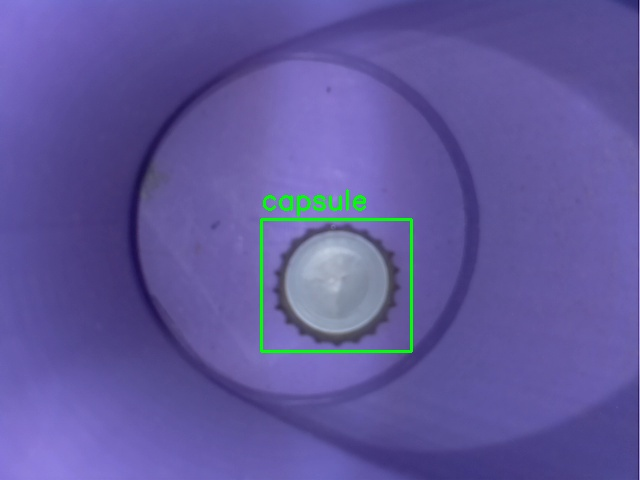capsule: (261, 219, 411, 351)
